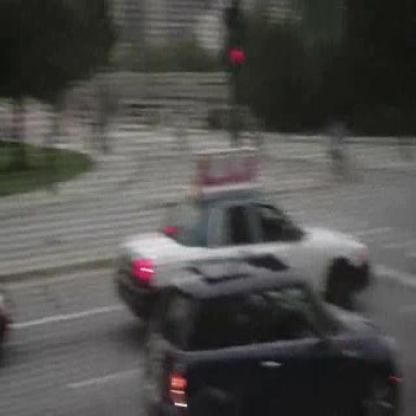other: (161, 352, 189, 408), (128, 242, 154, 290)
